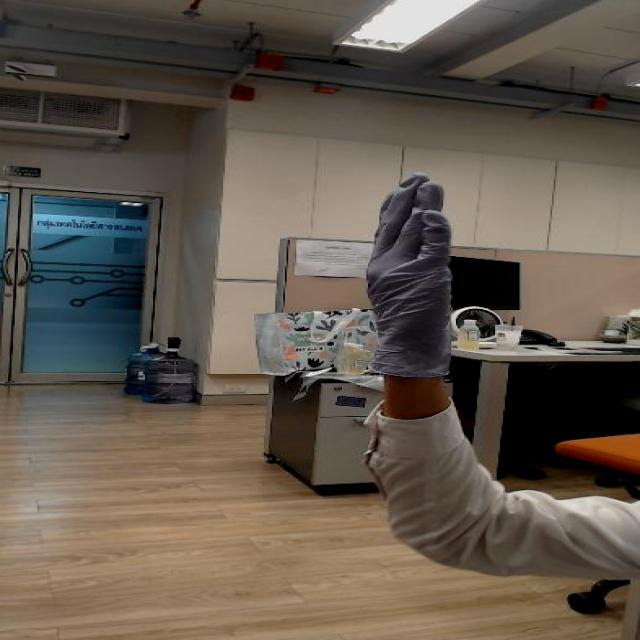glove: (342, 162, 479, 332)
